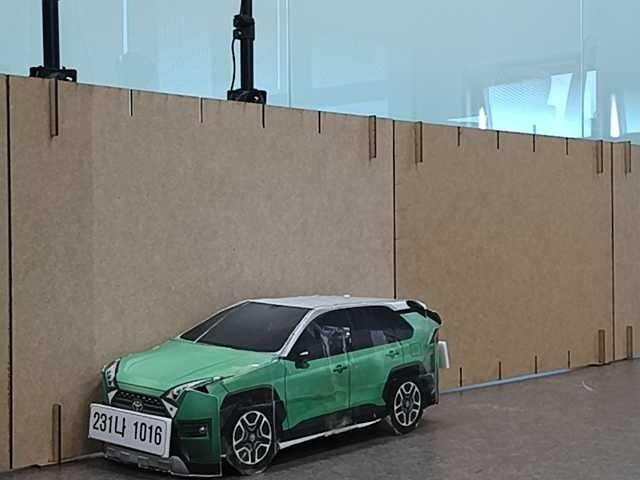car: (89, 293, 442, 478)
id: (87, 402, 173, 457)
